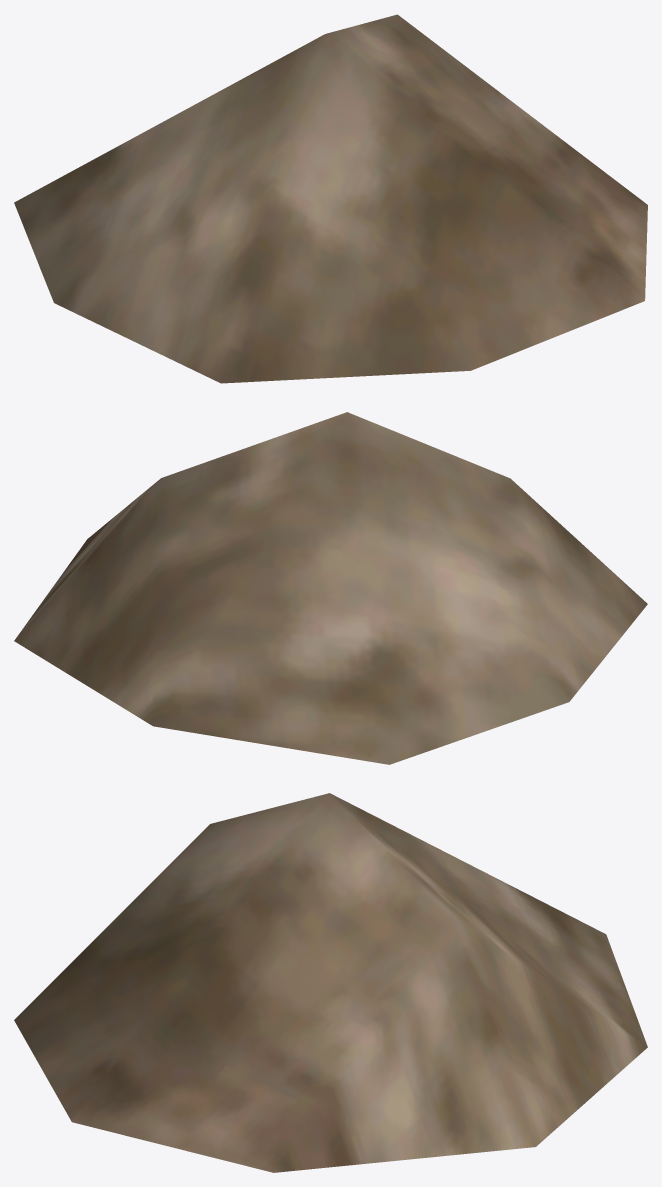
Rendered from OVERHILL_A_01_ROCK86.fbx.
3 renders of one model, top to bottom at view 1: azimuth 30°, elevation 25°; view 2: azimuth 150°, elevation 25°; view 3: azimuth 270°, elevation 25°, orthographic. The views are drawn at different scales.
Visible parts, largest first — view 1: OVERHILL_A_01_ROCK86; view 2: OVERHILL_A_01_ROCK86; view 3: OVERHILL_A_01_ROCK86.
Boxes of the visible parts, <box> form: OVERHILL_A_01_ROCK86: <box>14,14,647,383</box>; OVERHILL_A_01_ROCK86: <box>14,412,647,764</box>; OVERHILL_A_01_ROCK86: <box>14,793,647,1172</box>.
Size of the model in its own units: 1895 by 741 by 1844.
1 material, 1 textured.
